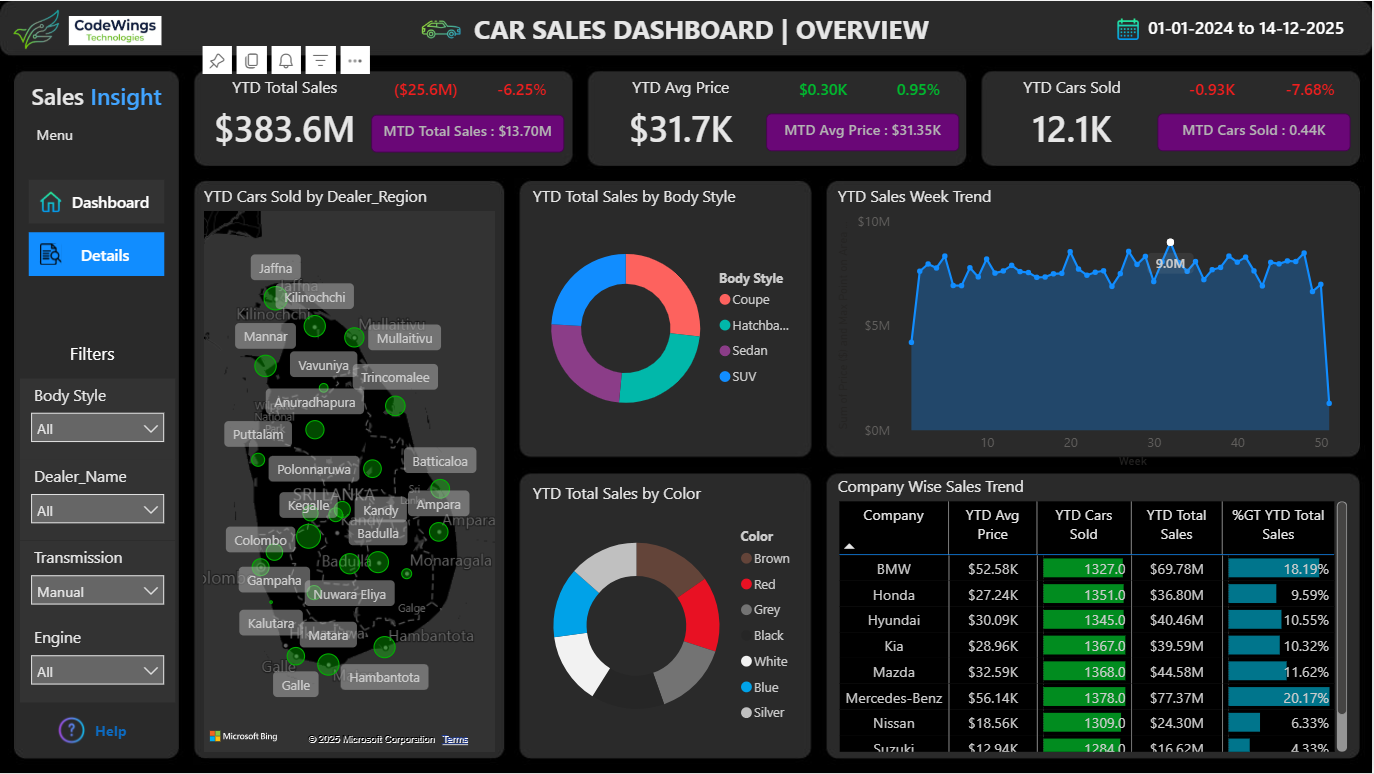

The page's visual inventory and layout, read from the dashboard file:
{"tool":"powerbi","page":{"name":"🏠︎ Dashboard ","canvas":[1280,720],"ordinal":0},"visuals":[{"type":"card","title":"YTD Total Sales","fields":{"Values":["Sri_Lankas_Car_Sales.YTD Total Sales"]},"box":[185.8,70.4,160.4,77.9],"z":0},{"type":"card","fields":{"Values":["Sri_Lankas_Car_Sales.Sales difference"]},"box":[346.1,70.4,101.7,27],"z":1000},{"type":"card","fields":{"Values":["Sri_Lankas_Car_Sales.YOY Sales Growth"]},"box":[447.8,70.4,78.3,27],"z":2000},{"type":"card","title":"MTD Total Sales","fields":{"Values":["Sri_Lankas_Car_Sales.MTD KPI"]},"box":[346.1,105.7,180,35],"z":3000},{"type":"card","title":"YTD Avg Price","fields":{"Values":["Sri_Lankas_Car_Sales.YTD Avg Price"]},"box":[555,70,160,78.3],"z":4000},{"type":"card","fields":{"Values":["Sri_Lankas_Car_Sales.Avg Price Difference"]},"box":[716.7,70,101.7,26.7],"z":5000},{"type":"card","fields":{"Values":["Sri_Lankas_Car_Sales.YOY Avg Price Growth"]},"box":[818.3,70,76.7,26.7],"z":6000},{"type":"card","title":"MTD Total Sales","fields":{"Values":["Sri_Lankas_Car_Sales.MTD Avg Price KPI"]},"box":[715,105,180,35],"z":7000},{"type":"card","title":"YTD Cars Sold","fields":{"Values":["Sri_Lankas_Car_Sales.YTD Car Sold"]},"box":[920,70,160,78.3],"z":8000},{"type":"card","fields":{"Values":["Sri_Lankas_Car_Sales.Cars sold difference"]},"box":[1080,70,101.7,26.7],"z":9000},{"type":"card","fields":{"Values":["Sri_Lankas_Car_Sales.YOY Cars Sold Growth"]},"box":[1181.7,70,80,26.7],"z":10000},{"type":"card","title":"MTD Total Sales","fields":{"Values":["Sri_Lankas_Car_Sales.MTD Cars Sold KPI"]},"box":[1080,105,180,35],"z":11000},{"type":"areaChart","title":"YTD Sales Week Trend","fields":{"Category":["Calender.Week"],"Y":["Sum(Sri_Lankas_Car_Sales.Price ($))","Sri_Lankas_Car_Sales.Max Point on Area Chart"]},"box":[775.8,171.3,501.8,268.9],"z":12000},{"type":"donutChart","fields":{"Category":["Sri_Lankas_Car_Sales.Body Style"],"Y":["Sri_Lankas_Car_Sales.YTD Total Sales"]},"box":[491.5,171.3,258.6,248.3],"z":13000},{"type":"donutChart","fields":{"Y":["Sri_Lankas_Car_Sales.YTD Total Sales"],"Category":["Sri_Lankas_Car_Sales.Color"]},"box":[491.5,448.7,258.6,248.3],"z":14000},{"type":"map","fields":{"Category":["Sri_Lankas_Car_Sales.Dealer_Region"],"Size":["Sri_Lankas_Car_Sales.YTD Cars Sold"]},"box":[185.3,171.8,281,533.7],"z":15000},{"type":"tableEx","title":"Company Wise Sales Trend","fields":{"Values":["Sri_Lankas_Car_Sales.Company","Sri_Lankas_Car_Sales.YTD Avg Price","Sri_Lankas_Car_Sales.YTD Cars Sold","Sri_Lankas_Car_Sales.YTD Total Sales1","Sri_Lankas_Car_Sales.YTD Total Sales"]},"box":[775.8,441.9,484.7,263.8],"z":16000},{"type":"slicer","fields":{"Values":["Sri_Lankas_Car_Sales.Body Style"]},"box":[18.4,352.1,144.8,76.1],"z":17000},{"type":"slicer","fields":{"Values":["Sri_Lankas_Car_Sales.Dealer_Name"]},"box":[18.4,428.2,144.8,74.8],"z":18000},{"type":"slicer","fields":{"Values":["Sri_Lankas_Car_Sales.Transmission"]},"box":[18.4,503.1,144.8,74.8],"z":19000},{"type":"slicer","fields":{"Values":["Sri_Lankas_Car_Sales.Engine"]},"box":[18.4,577.9,144.8,76.1],"z":20000},{"type":"textbox","box":[24.5,68.7,148.5,42.9],"z":21000},{"type":"textbox","box":[29.4,110.4,61.4,35.6],"z":22000},{"type":"actionButton","box":[27,166.9,126.4,40.5],"z":23000},{"type":"actionButton","box":[27,216,126.4,40.5],"z":24000},{"type":"textbox","box":[57.7,312.9,57.7,36.8],"z":25000},{"type":"actionButton","box":[42.9,656.4,99.4,46.6],"z":26000},{"type":"image","box":[0,0,68.7,52.8],"z":27000},{"type":"image","box":[357.1,7.4,109.2,39.3],"z":28000},{"type":"textbox","box":[436.8,4.9,449.1,47.9],"z":29000},{"type":"textbox","box":[1062.6,8.6,204.9,39.3],"z":30000},{"type":"image","box":[1018.4,16,66.3,19.6],"z":31000},{"type":"image","box":[34.4,13.5,147.2,27],"z":31001}]}

Visuals, with their boxes on the page's 1280x720 design canvas (x1, y1, x2, y2). These are canvas units, not pixel positions in the 1374x774 screenshot, which may show the page scaled, cropped or inside an application window:
"YTD Total Sales" card: pyautogui.locateOnScreen(186, 70, 346, 148)
card - Sri_Lankas_Car_Sales.Sales difference: pyautogui.locateOnScreen(346, 70, 448, 97)
card - Sri_Lankas_Car_Sales.YOY Sales Growth: pyautogui.locateOnScreen(448, 70, 526, 97)
"MTD Total Sales" card: pyautogui.locateOnScreen(346, 106, 526, 141)
"YTD Avg Price" card: pyautogui.locateOnScreen(555, 70, 715, 148)
card - Sri_Lankas_Car_Sales.Avg Price Difference: pyautogui.locateOnScreen(717, 70, 818, 97)
card - Sri_Lankas_Car_Sales.YOY Avg Price Growth: pyautogui.locateOnScreen(818, 70, 895, 97)
"MTD Total Sales" card: pyautogui.locateOnScreen(715, 105, 895, 140)
"YTD Cars Sold" card: pyautogui.locateOnScreen(920, 70, 1080, 148)
card - Sri_Lankas_Car_Sales.Cars sold difference: pyautogui.locateOnScreen(1080, 70, 1182, 97)
card - Sri_Lankas_Car_Sales.YOY Cars Sold Growth: pyautogui.locateOnScreen(1182, 70, 1262, 97)
"MTD Total Sales" card: pyautogui.locateOnScreen(1080, 105, 1260, 140)
"YTD Sales Week Trend" areaChart: pyautogui.locateOnScreen(776, 171, 1278, 440)
donutChart - Sri_Lankas_Car_Sales.Body Style x Sri_Lankas_Car_Sales.YTD Total Sales: pyautogui.locateOnScreen(492, 171, 750, 420)
donutChart - Sri_Lankas_Car_Sales.YTD Total Sales x Sri_Lankas_Car_Sales.Color: pyautogui.locateOnScreen(492, 449, 750, 697)
map - Sri_Lankas_Car_Sales.Dealer_Region x Sri_Lankas_Car_Sales.YTD Cars Sold: pyautogui.locateOnScreen(185, 172, 466, 706)
"Company Wise Sales Trend" tableEx: pyautogui.locateOnScreen(776, 442, 1260, 706)
slicer - Sri_Lankas_Car_Sales.Body Style: pyautogui.locateOnScreen(18, 352, 163, 428)
slicer - Sri_Lankas_Car_Sales.Dealer_Name: pyautogui.locateOnScreen(18, 428, 163, 503)
slicer - Sri_Lankas_Car_Sales.Transmission: pyautogui.locateOnScreen(18, 503, 163, 578)
slicer - Sri_Lankas_Car_Sales.Engine: pyautogui.locateOnScreen(18, 578, 163, 654)
textbox: pyautogui.locateOnScreen(24, 69, 173, 112)
textbox: pyautogui.locateOnScreen(29, 110, 91, 146)
actionButton: pyautogui.locateOnScreen(27, 167, 153, 207)
actionButton: pyautogui.locateOnScreen(27, 216, 153, 256)
textbox: pyautogui.locateOnScreen(58, 313, 115, 350)
actionButton: pyautogui.locateOnScreen(43, 656, 142, 703)
image: pyautogui.locateOnScreen(0, 0, 69, 53)
image: pyautogui.locateOnScreen(357, 7, 466, 47)
textbox: pyautogui.locateOnScreen(437, 5, 886, 53)
textbox: pyautogui.locateOnScreen(1063, 9, 1268, 48)
image: pyautogui.locateOnScreen(1018, 16, 1085, 36)
image: pyautogui.locateOnScreen(34, 14, 182, 40)
